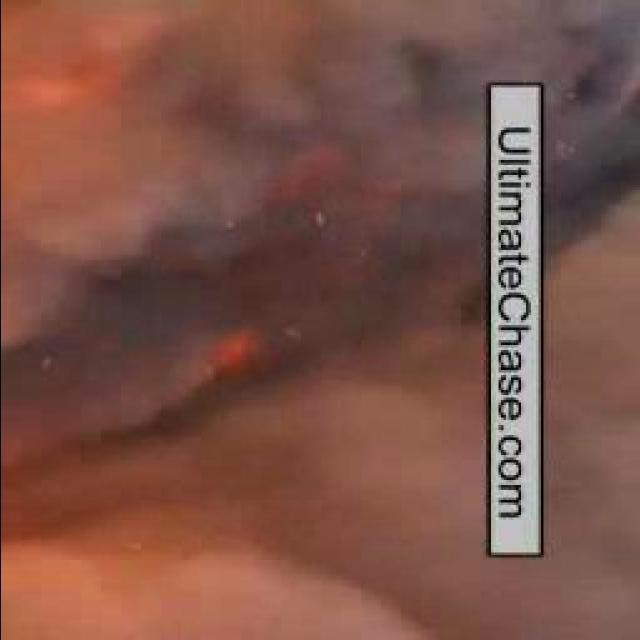Fire: (0, 0, 190, 156), (197, 330, 262, 380)
